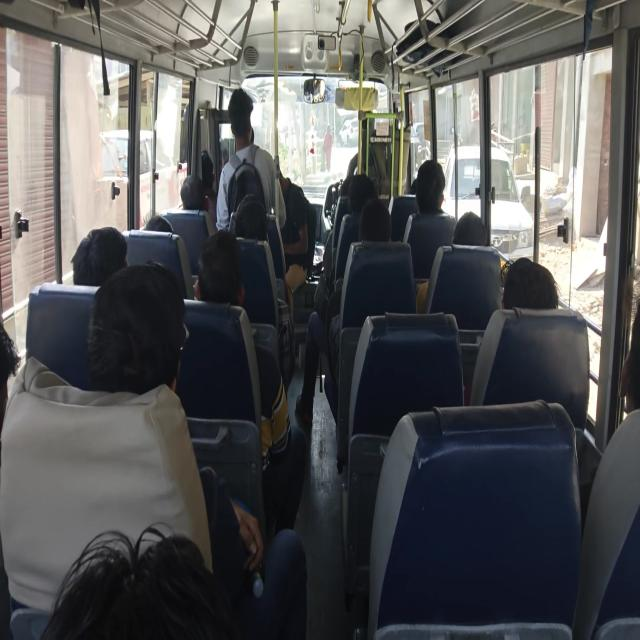person: (1, 260, 307, 638), (86, 260, 264, 582), (193, 229, 307, 532), (572, 300, 639, 638), (40, 523, 233, 639), (295, 172, 379, 425), (469, 256, 559, 405), (215, 87, 286, 235), (416, 211, 487, 313), (402, 158, 457, 281), (274, 156, 312, 318), (71, 225, 128, 286), (502, 256, 558, 310), (452, 210, 487, 246), (179, 173, 208, 210), (322, 124, 333, 171)
